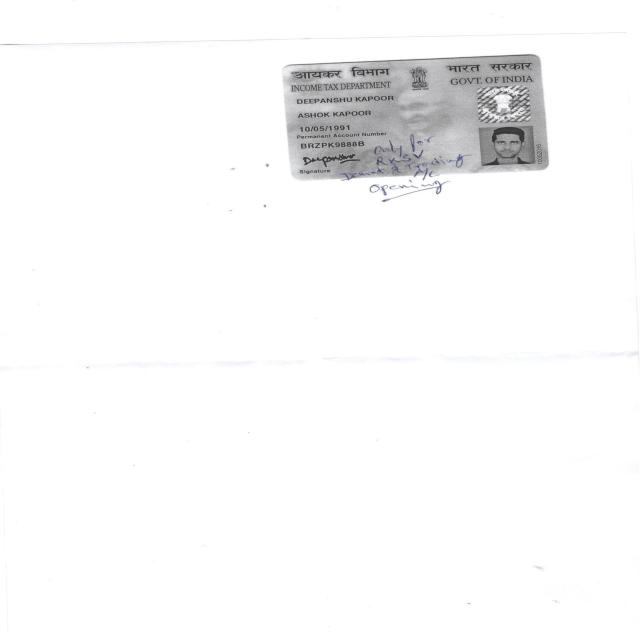pan_card: (280, 54, 551, 182)
